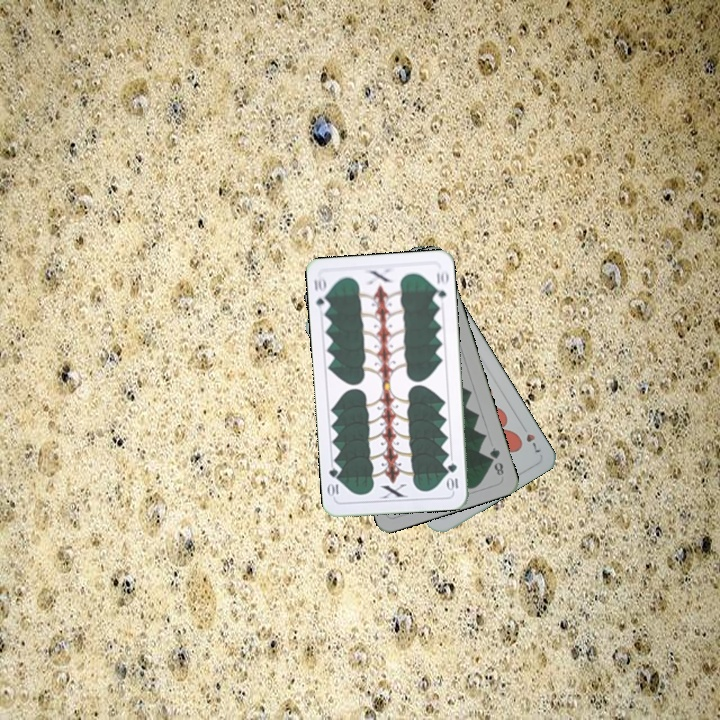G10: (310, 273, 332, 314), (444, 459, 461, 493)
G8: (485, 443, 506, 478)
H7: (517, 420, 543, 455)
